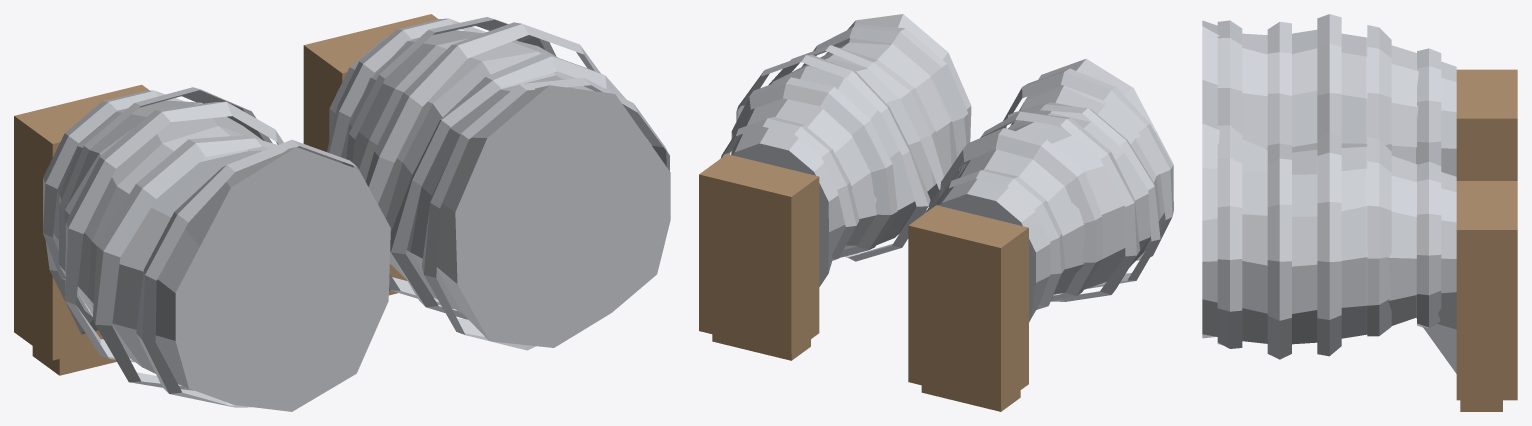
The model's file is boots_wrapped.glb.
The picture shows the model from 3 angles, left to right: view 1: azimuth 30°, elevation 25°; view 2: azimuth 150°, elevation 25°; view 3: azimuth 270°, elevation 25°; orthographic projection. The views are drawn at different scales.
Parts seen in each view (by area): view 1: LowerLegR, LowerLegL, FootR, FootL; view 2: LowerLegL, LowerLegR, FootR, FootL; view 3: LowerLegL, LowerLegR, FootL, FootR.
Part boxes in pixels (x1,y1,x2,y2): LowerLegR: (43, 87, 390, 411); LowerLegL: (327, 17, 670, 350); FootR: (14, 84, 149, 375); FootL: (303, 14, 438, 295); LowerLegL: (720, 14, 971, 286); LowerLegR: (934, 58, 1173, 322); FootR: (908, 205, 1028, 411); FootL: (699, 154, 819, 360); LowerLegL: (1202, 123, 1456, 373); LowerLegR: (1202, 14, 1456, 176); FootL: (1456, 181, 1517, 411); FootR: (1456, 69, 1517, 180).
Bounding box in the file's own units: 0.9155 × 0.5197 × 0.57.
